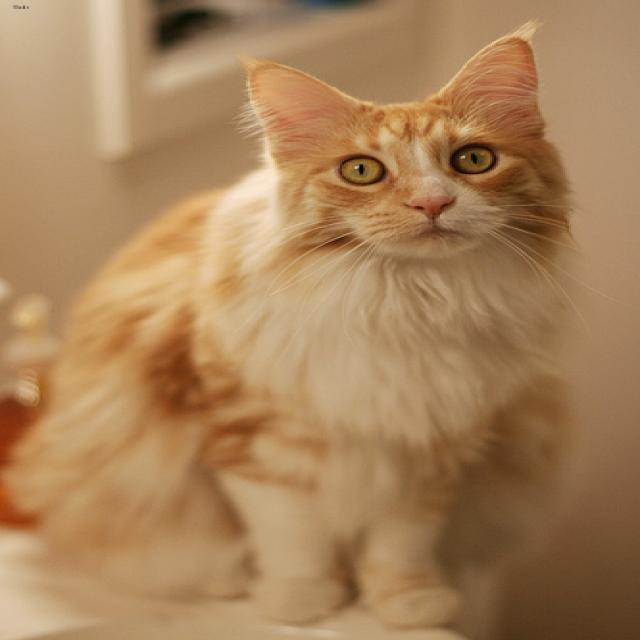Maine_Coon: (244, 36, 542, 255)
